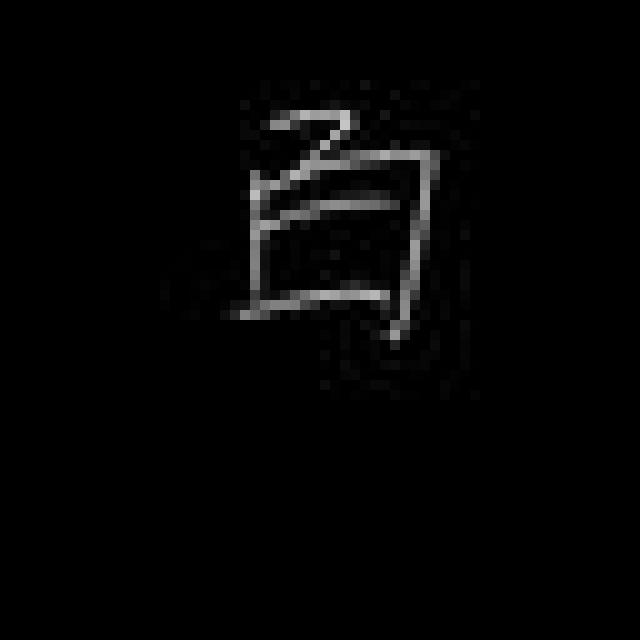100 -a hundred-: (221, 94, 449, 354)
